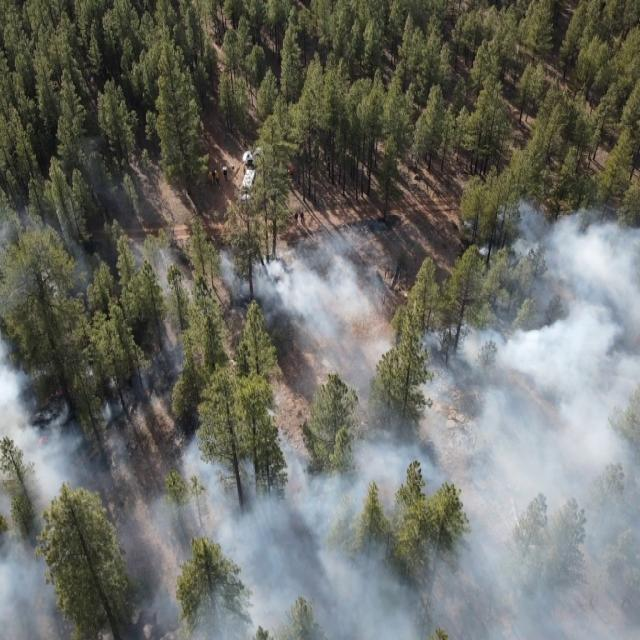fire: (37, 432, 50, 452)
smoke: (0, 197, 640, 640)
